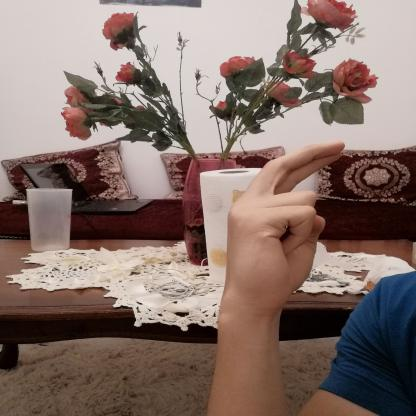ZAY: (214, 133, 361, 316)
